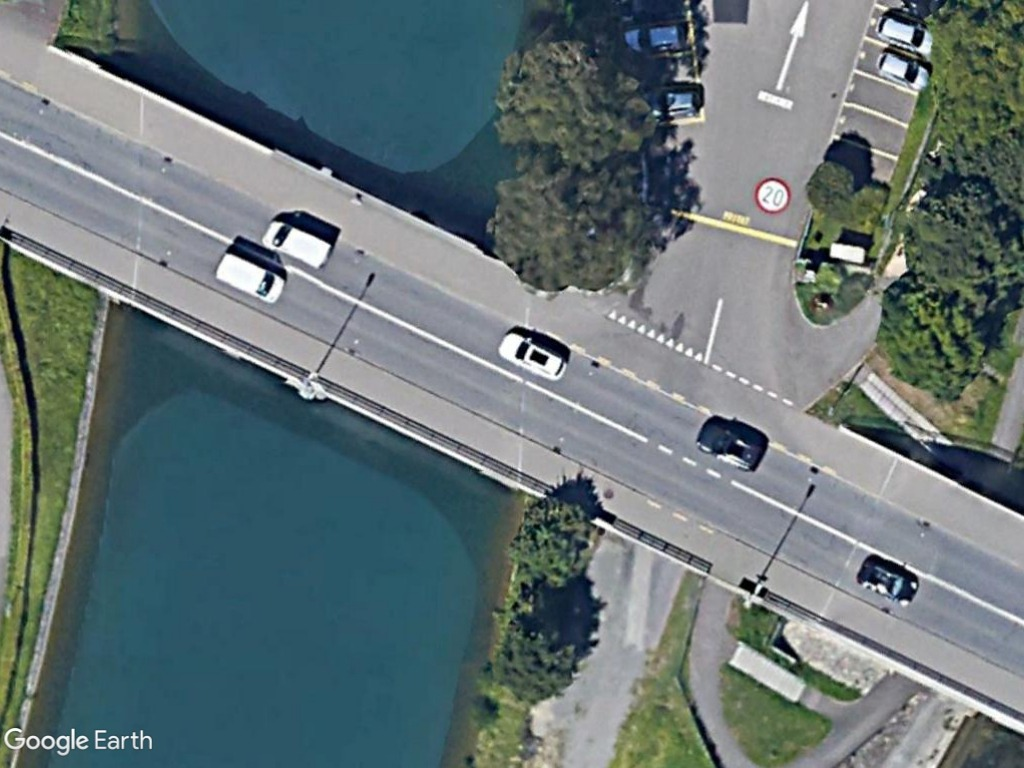car: (496, 325, 573, 384), (695, 418, 768, 476), (874, 10, 937, 58), (870, 47, 930, 96)
van: (210, 250, 286, 307), (259, 218, 337, 272)
